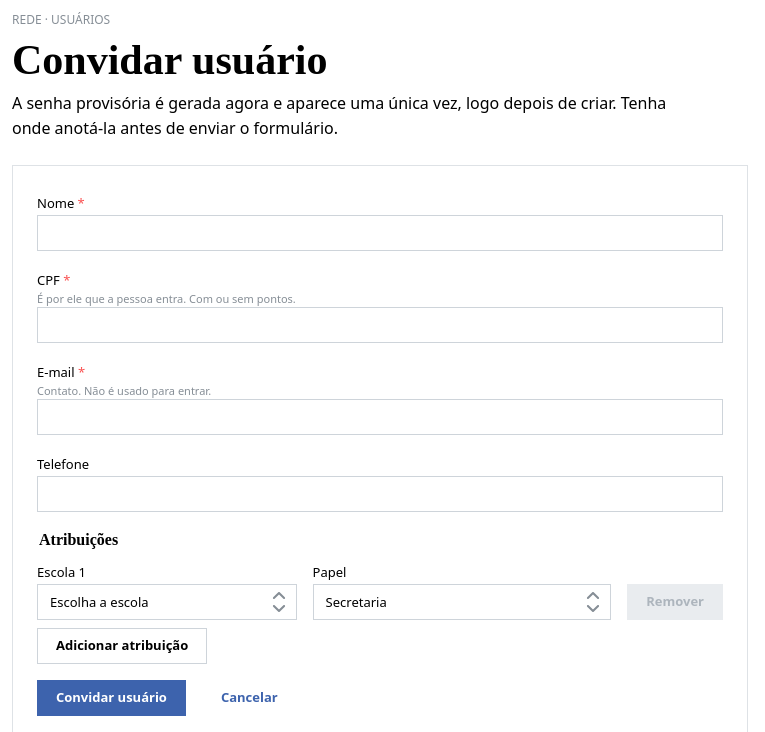
Test: when the server refuses › a problem on the cpf field lands under that field
In the field labelled "Nome": x=380, y=233 [37,215,723,251], type "Joana Ribeiro"
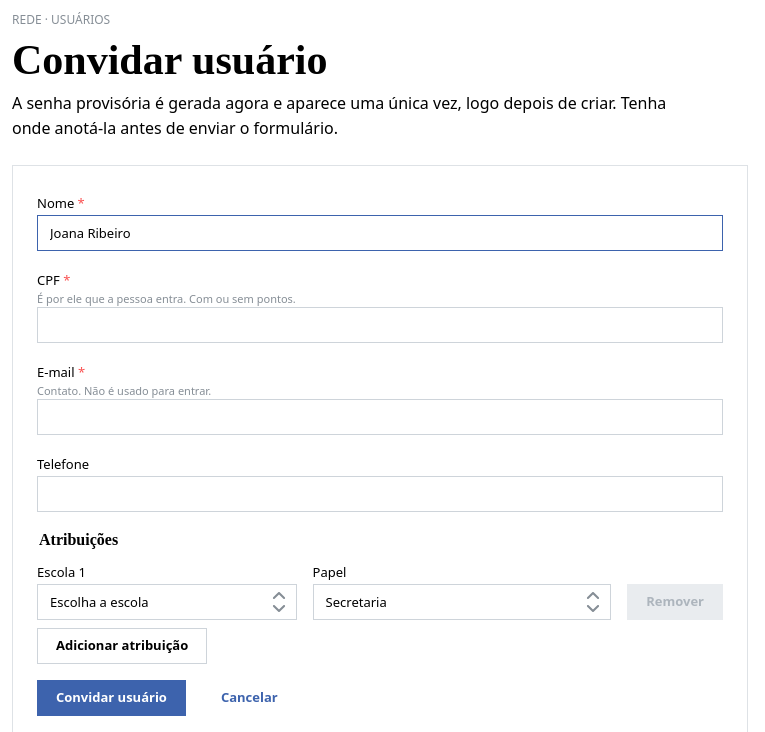
In the field labelled "CPF": x=380, y=325 [37,307,723,343], type "52998224725"
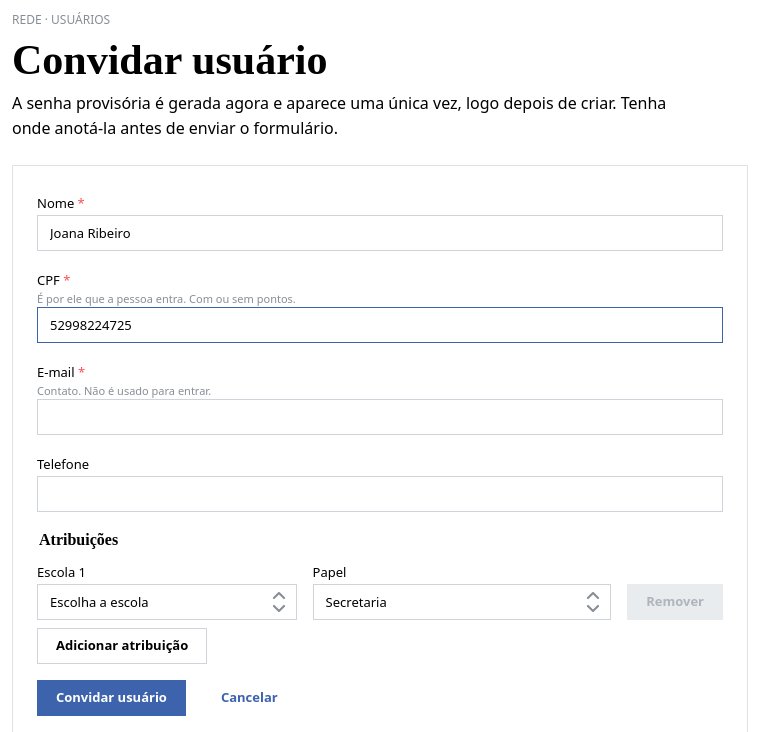
In the field labelled "E-mail": x=380, y=417 [37,399,723,435], type "joana@escolaviva.test"
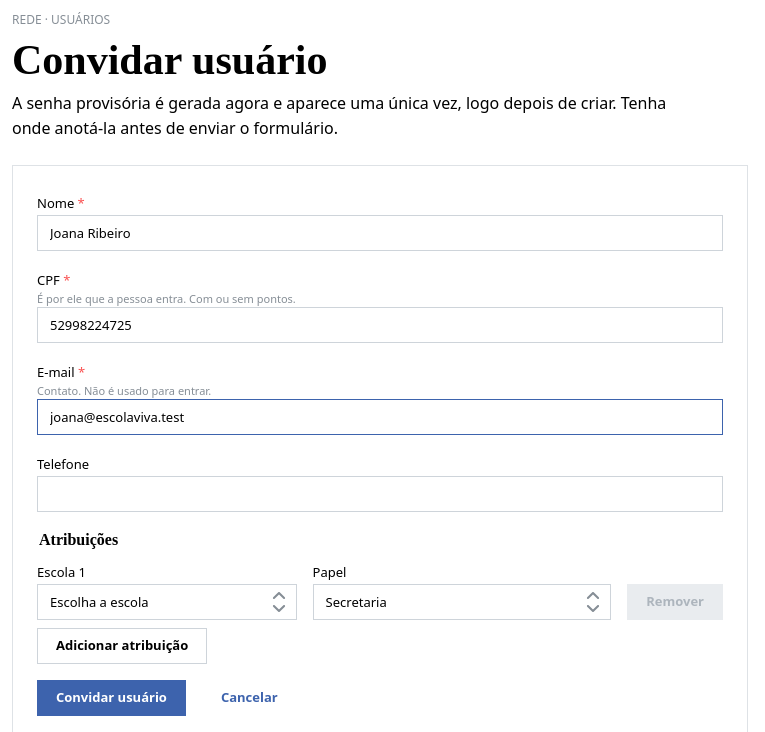
Select "Escola Central" in the dropdown labelled "Escola 1": x=167, y=602 [37,584,297,620]
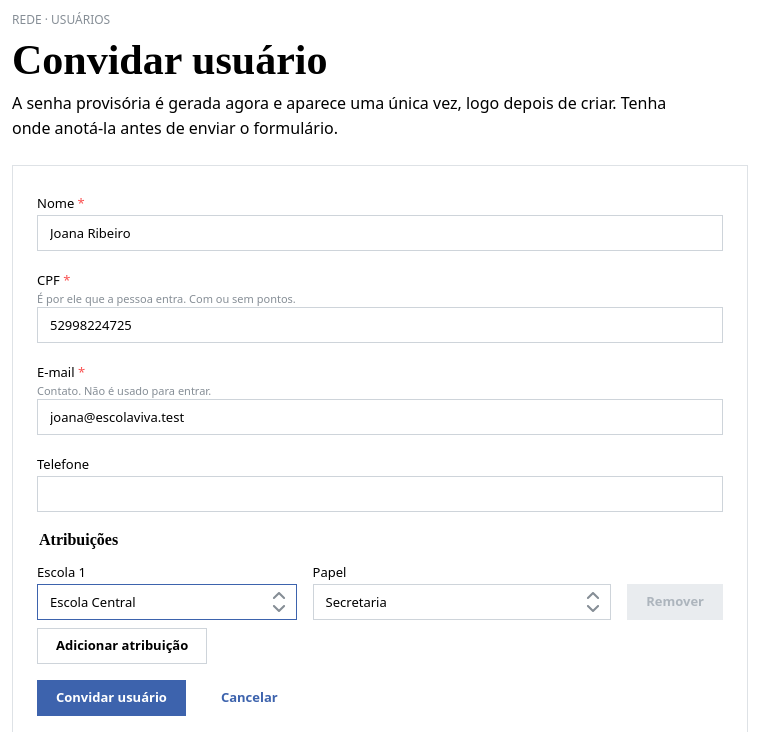
Click the button "Convidar usuário": x=111, y=698 [37,680,186,716]
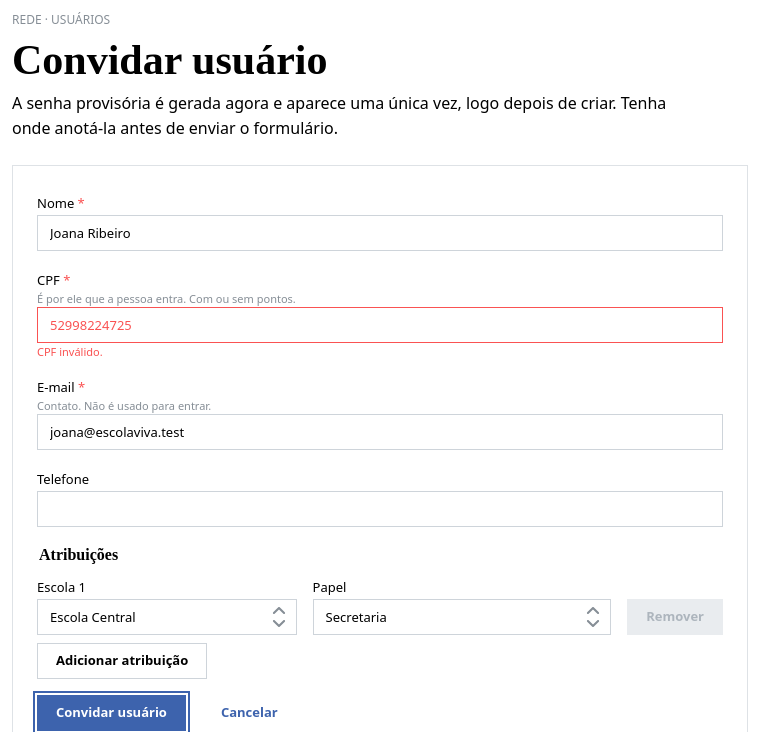
expect the text "CPF inválido." is shown: met, box [37,344,103,359]
